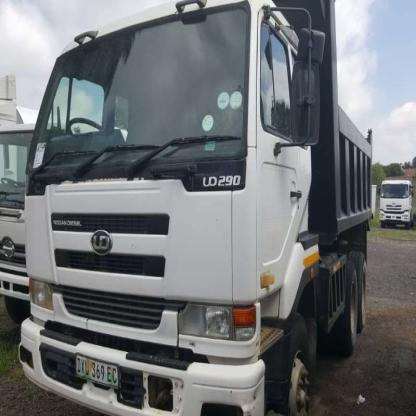dump_truck: (16, 9, 373, 415), (377, 167, 415, 240)
